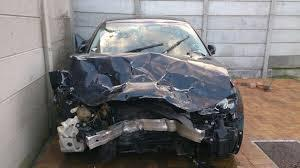Front-Windscreen-Damage: (92, 23, 198, 51)
bonnet-dent: (64, 50, 207, 104)
front-bumper-dent: (88, 107, 192, 150)
